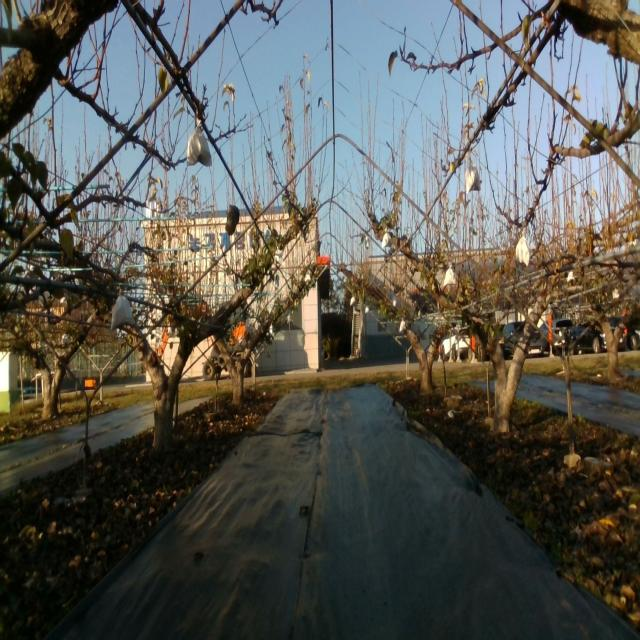pearbags: (185, 118, 212, 164), (110, 292, 136, 334), (514, 234, 531, 268), (466, 160, 480, 193), (444, 260, 457, 287)
